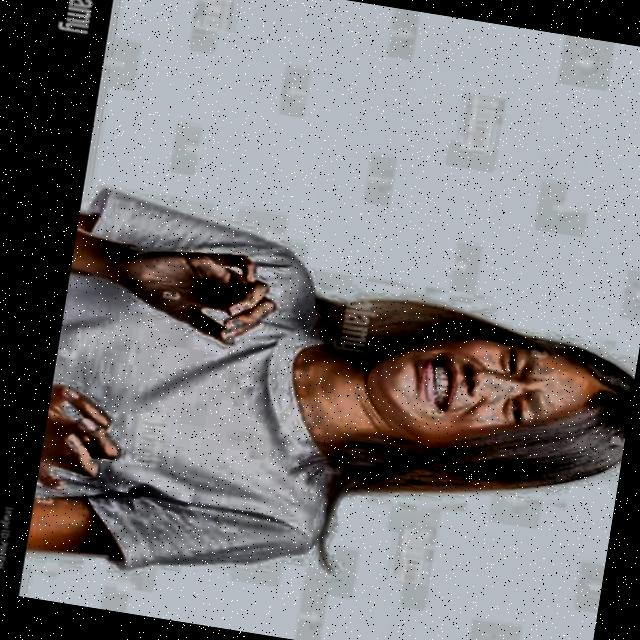disgust: (272, 275, 640, 538)
